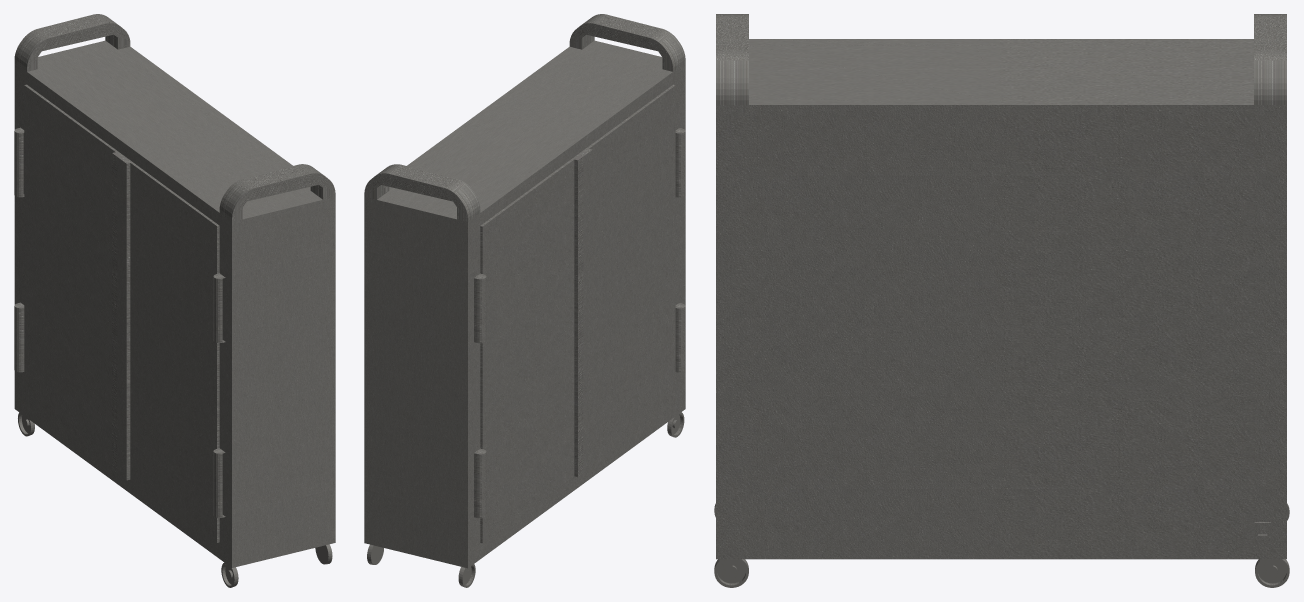
File: Carrito.fbx
The picture shows the model from 3 angles, left to right: view 1: azimuth 30°, elevation 25°; view 2: azimuth 150°, elevation 25°; view 3: azimuth 270°, elevation 25°; orthographic projection. The views are drawn at different scales.
Visible parts, largest first — view 1: Cube; view 2: Cube; view 3: Cube.
Part boxes in pixels (x1,y1,x2,y2): Cube: [14, 14, 335, 587]; Cube: [364, 14, 685, 587]; Cube: [714, 14, 1289, 587].
Bounding box in the file's own units: 169 × 566 × 564.
